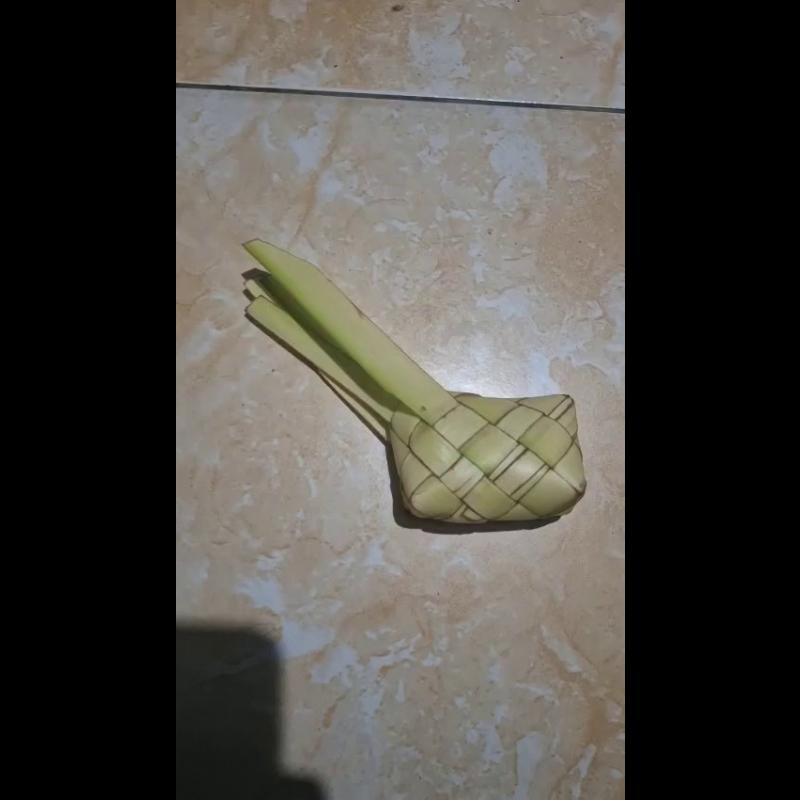Tipat Bantal: (240, 234, 593, 531)
